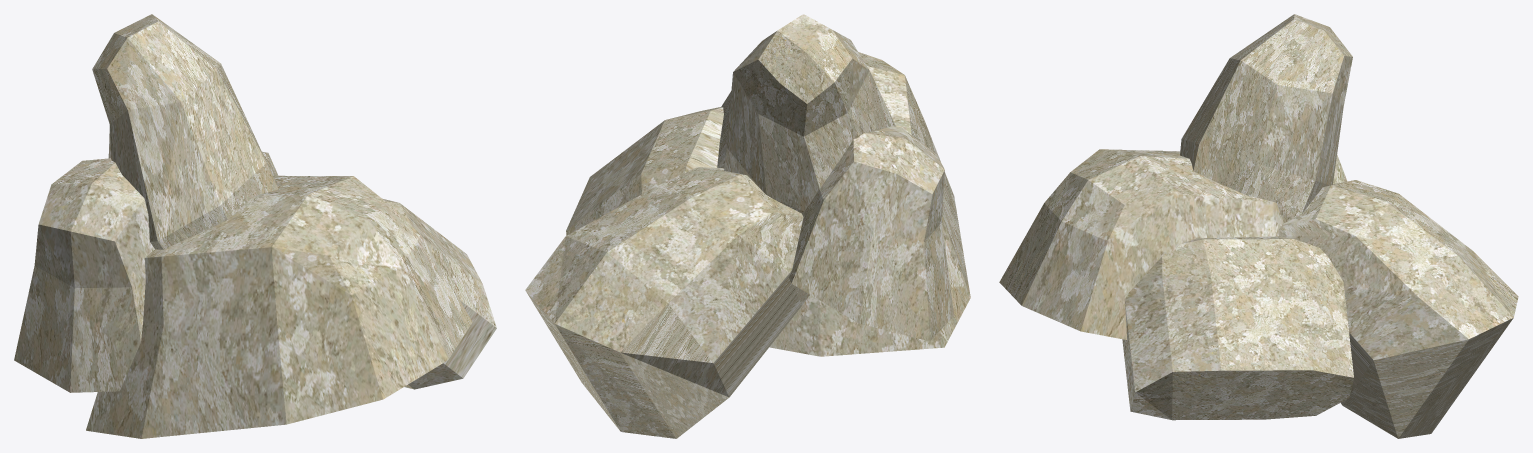
The model's file is rock_formation_l0.fbx.
3 views of the same model, side by side, from view 1: azimuth 30°, elevation 25°; view 2: azimuth 150°, elevation 25°; view 3: azimuth 270°, elevation 25° (orthographic). The views are drawn at different scales.
Parts seen in each view (by area): view 1: mesh_node; view 2: mesh_node; view 3: mesh_node.
Part boxes in pixels (x1=…): mesh_node: x1=14, y1=14, x2=496, y2=438; mesh_node: x1=525, y1=14, x2=970, y2=438; mesh_node: x1=999, y1=14, x2=1518, y2=438.
Bounding box in the file's own units: 9.24 × 8.98 × 11.59.
